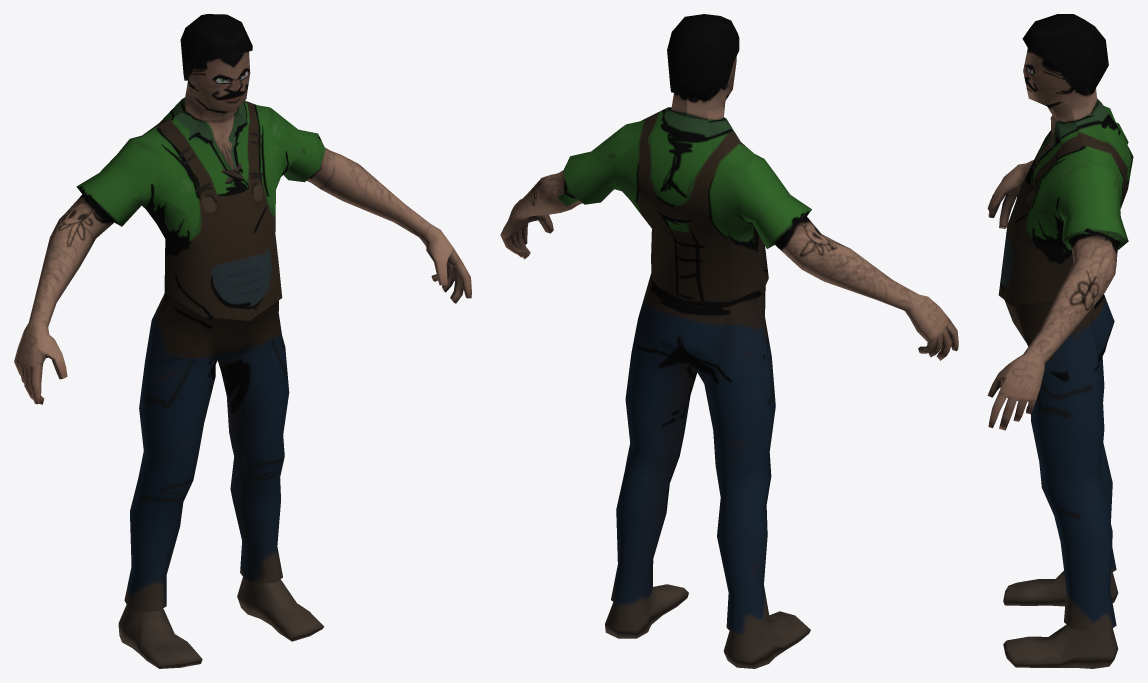
Rendered from Jamrul - The Tavern Keeper.fbx.
3 views of the same model, side by side, from view 1: azimuth 30°, elevation 25°; view 2: azimuth 150°, elevation 25°; view 3: azimuth 270°, elevation 25° (orthographic).
Visible parts, largest first — view 1: Male_Type_8; view 2: Male_Type_8; view 3: Male_Type_8.
Part boxes in pixels (x1,y1,x2,y2): Male_Type_8: (14, 14, 471, 668); Male_Type_8: (500, 14, 958, 668); Male_Type_8: (987, 14, 1133, 668).
Bounding box in the file's own units: 134 × 180 × 38.78.
1 material, 1 textured.
